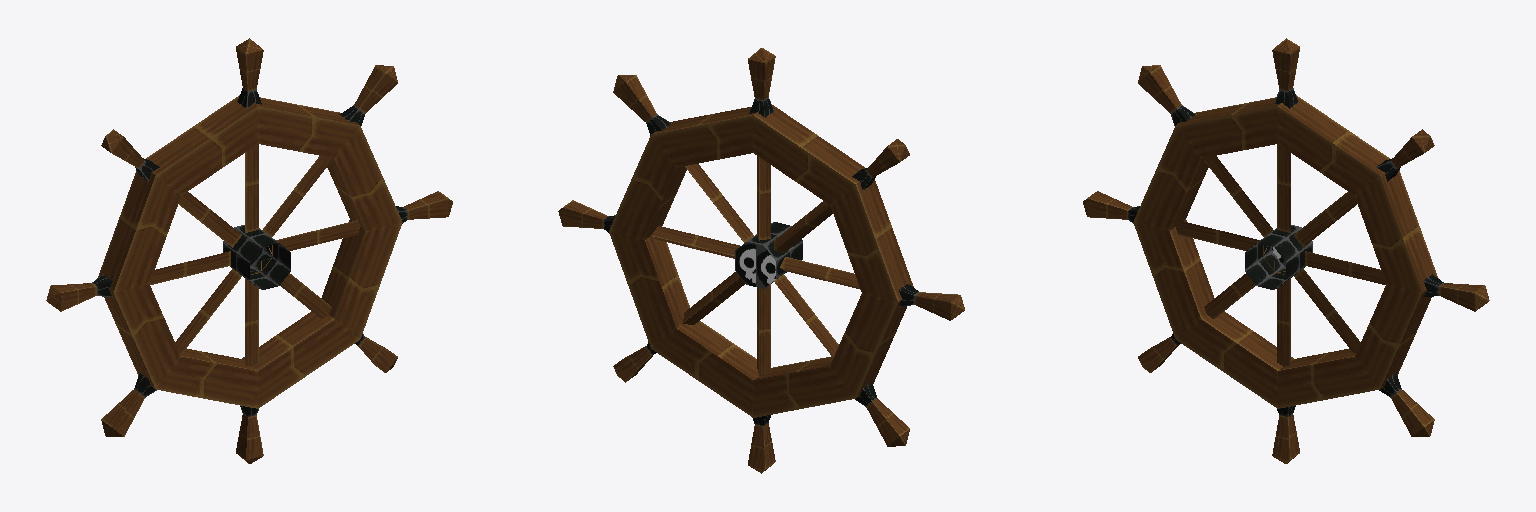
3 renders of one model, left to right at view 1: azimuth 30°, elevation 25°; view 2: azimuth 150°, elevation 25°; view 3: azimuth 330°, elevation 25°, orthographic.
Parts seen in each view (by area): view 1: wheel; view 2: wheel; view 3: wheel.
Boxes of the visible parts, x1=… form: wheel: x1=46, y1=38, x2=452, y2=463; wheel: x1=558, y1=48, x2=964, y2=473; wheel: x1=1083, y1=38, x2=1489, y2=463.
Size of the model in its own units: 161 by 161 by 20.06.
1 materials, 1 textured.